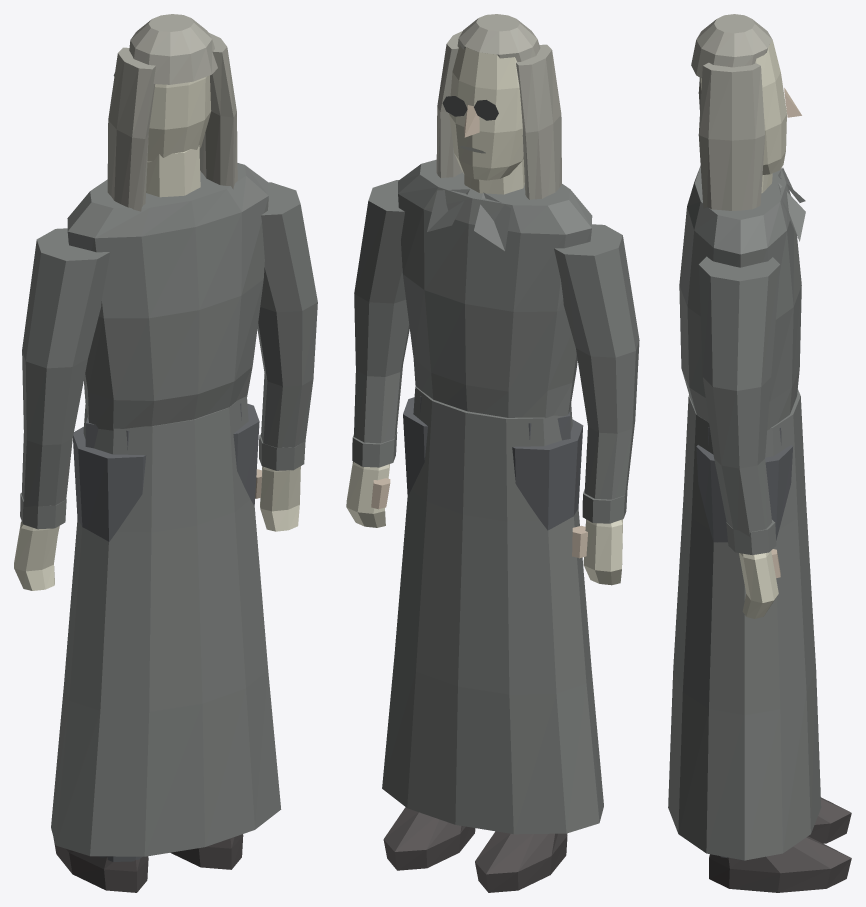
Rendered from 02_hollow_widow.gltf.
3 views of the same model, side by side, from view 1: azimuth 30°, elevation 25°; view 2: azimuth 150°, elevation 25°; view 3: azimuth 270°, elevation 25° (orthographic). The views are drawn at different scales.
Visible parts, largest first — view 1: long_skirt_21, shirt_torso_5, left_sleeve_6, right_sleeve_10, hanging_hair_23, L_trouser_0, hair_crown_22, head_15, hanging_hair_24, leather_shoe_1, hand_8, hand_12 (+5 smaller); view 2: long_skirt_21, shirt_torso_5, left_sleeve_6, right_sleeve_10, head_15, hanging_hair_23, L_trouser_0, leather_shoe_1, leather_shoe_3, hair_crown_22, hand_8, hanging_hair_24 (+7 smaller); view 3: long_skirt_21, right_sleeve_10, shirt_torso_5, hanging_hair_24, leather_shoe_3, R_trouser_2, hair_crown_22, head_15, hand_12, leather_shoe_1, cuff_11, collar_leaf_19.
Part boxes in pixels (x1,y1,x2,y2): long_skirt_21: (51, 396, 281, 856); shirt_torso_5: (67, 163, 268, 430); left_sleeve_6: (21, 228, 110, 506); right_sleeve_10: (257, 182, 317, 447); hanging_hair_23: (107, 47, 155, 211); L_trouser_0: (73, 426, 146, 861); hair_crown_22: (129, 14, 217, 84); head_15: (147, 75, 211, 162); hanging_hair_24: (199, 32, 237, 189); leather_shoe_1: (53, 839, 148, 892); hand_8: (14, 521, 58, 590); hand_12: (260, 466, 300, 531); long_skirt_21: (382, 386, 603, 834); shirt_torso_5: (398, 159, 592, 418); left_sleeve_6: (554, 224, 639, 499); right_sleeve_10: (354, 180, 409, 443); head_15: (449, 45, 523, 180); hanging_hair_23: (516, 44, 561, 199); L_trouser_0: (512, 419, 583, 530); leather_shoe_1: (475, 831, 567, 892); leather_shoe_3: (383, 807, 475, 870); hair_crown_22: (457, 14, 540, 61); hand_8: (583, 519, 622, 585); hanging_hair_24: (436, 31, 462, 178); long_skirt_21: (668, 389, 821, 860); right_sleeve_10: (698, 256, 780, 536); shirt_torso_5: (679, 166, 801, 429); hanging_hair_24: (698, 62, 764, 210); leather_shoe_3: (709, 836, 851, 892); R_trouser_2: (696, 445, 792, 860); hair_crown_22: (691, 14, 772, 78); head_15: (700, 40, 786, 174); hand_12: (739, 551, 778, 618); leather_shoe_1: (808, 797, 851, 843); cuff_11: (726, 520, 776, 555); collar_leaf_19: (778, 182, 805, 241).
Size of the model in its own units: 0.64 by 1.8 by 0.36.
